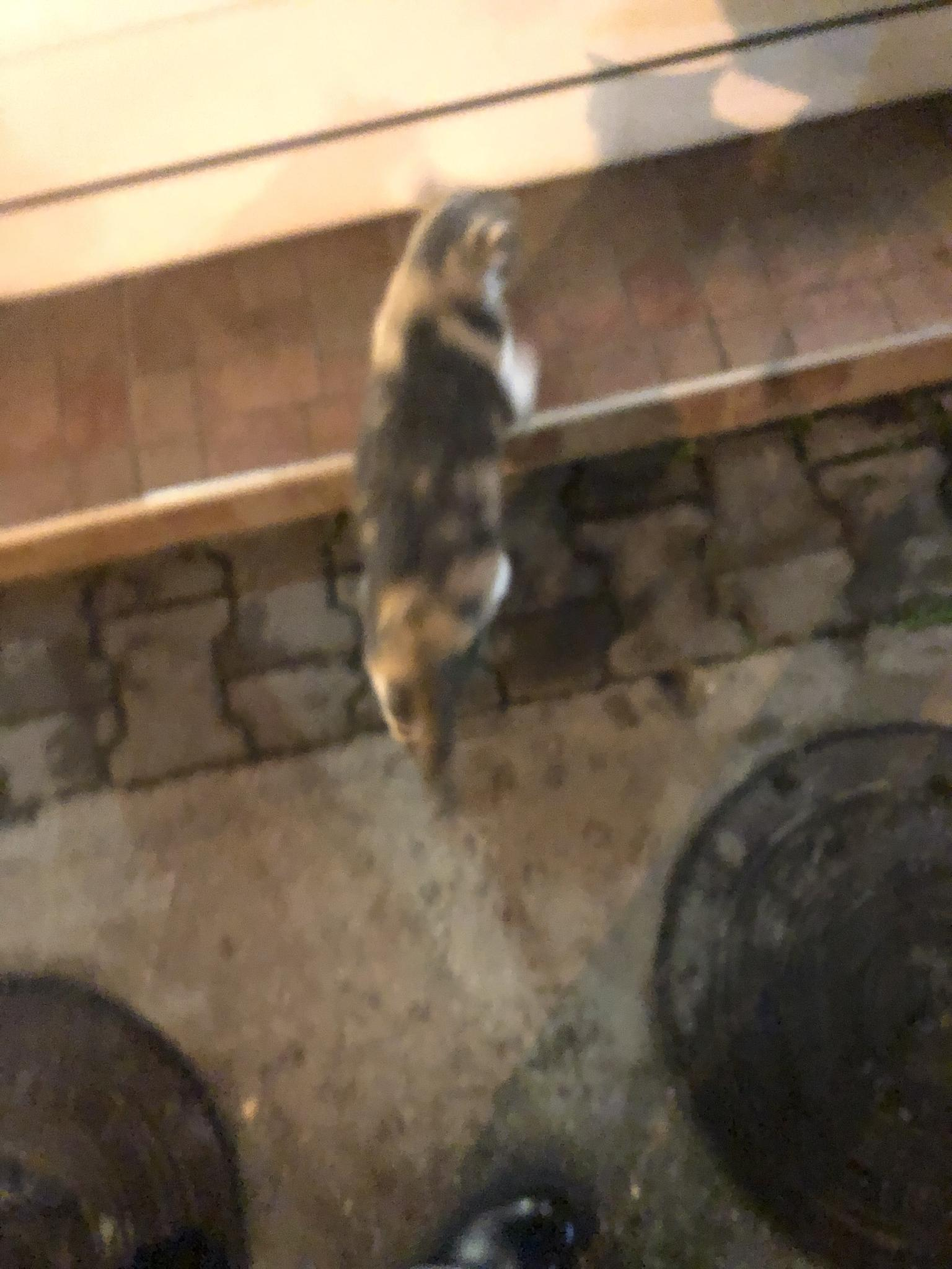macka: (349, 162, 547, 779)
